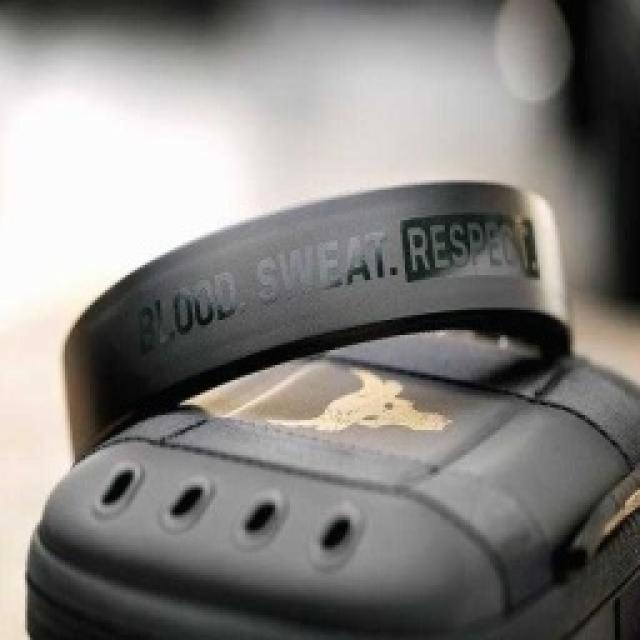headphones: (20, 178, 638, 638)
